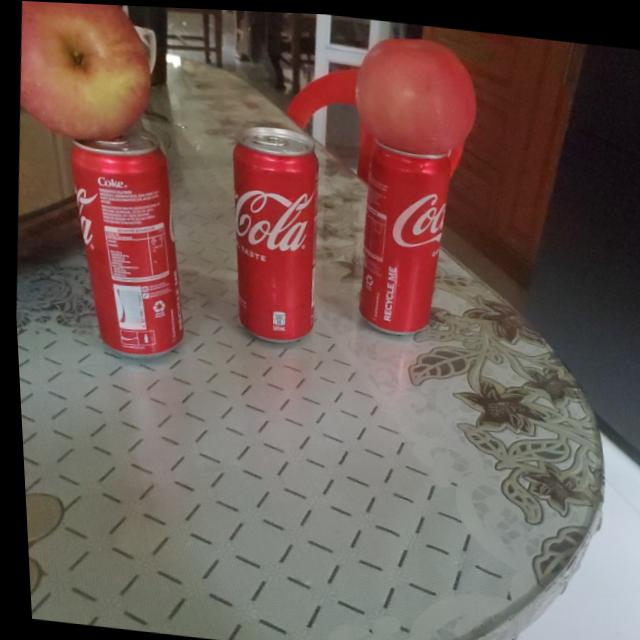apple: (12, 0, 157, 143), (346, 27, 479, 155)
coke: (59, 132, 196, 355), (221, 121, 326, 340), (352, 138, 466, 333)
